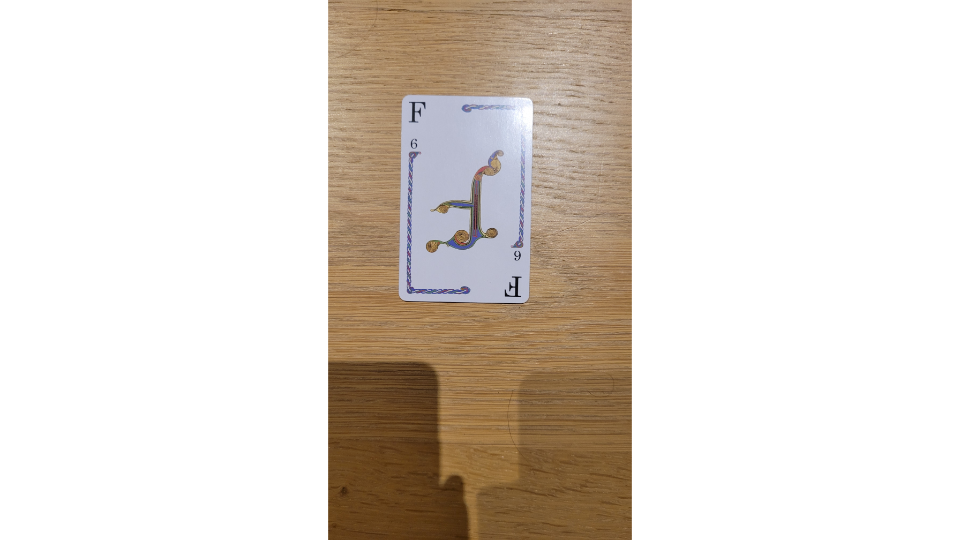F: (395, 91, 537, 308)
